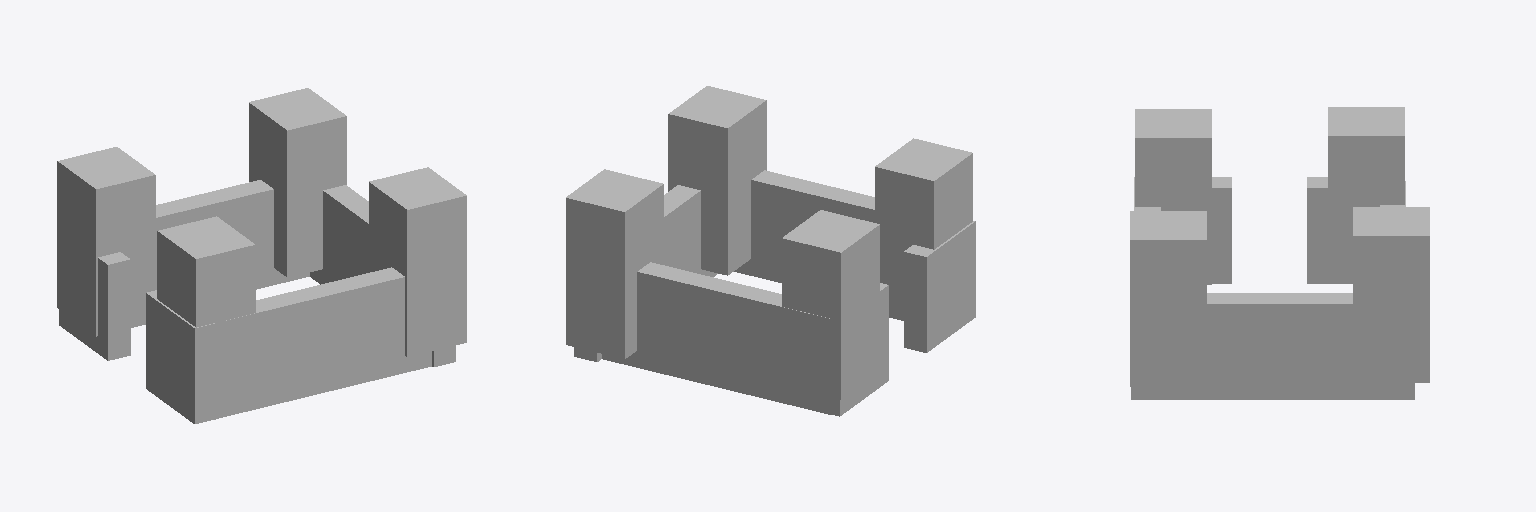
The model's file is castle.obj.
3 views of the same model, side by side, from view 1: azimuth 30°, elevation 25°; view 2: azimuth 150°, elevation 25°; view 3: azimuth 270°, elevation 25° (orthographic).
Parts seen in each view (by area): view 1: Cube.002; view 2: Cube.002; view 3: Cube.002.
Part boxes in pixels (x1,y1,x2,y2): Cube.002: (57, 88, 466, 423); Cube.002: (566, 86, 975, 416); Cube.002: (1130, 107, 1429, 399).
Size of the model in its own units: 2.96 by 1.71 by 2.83.